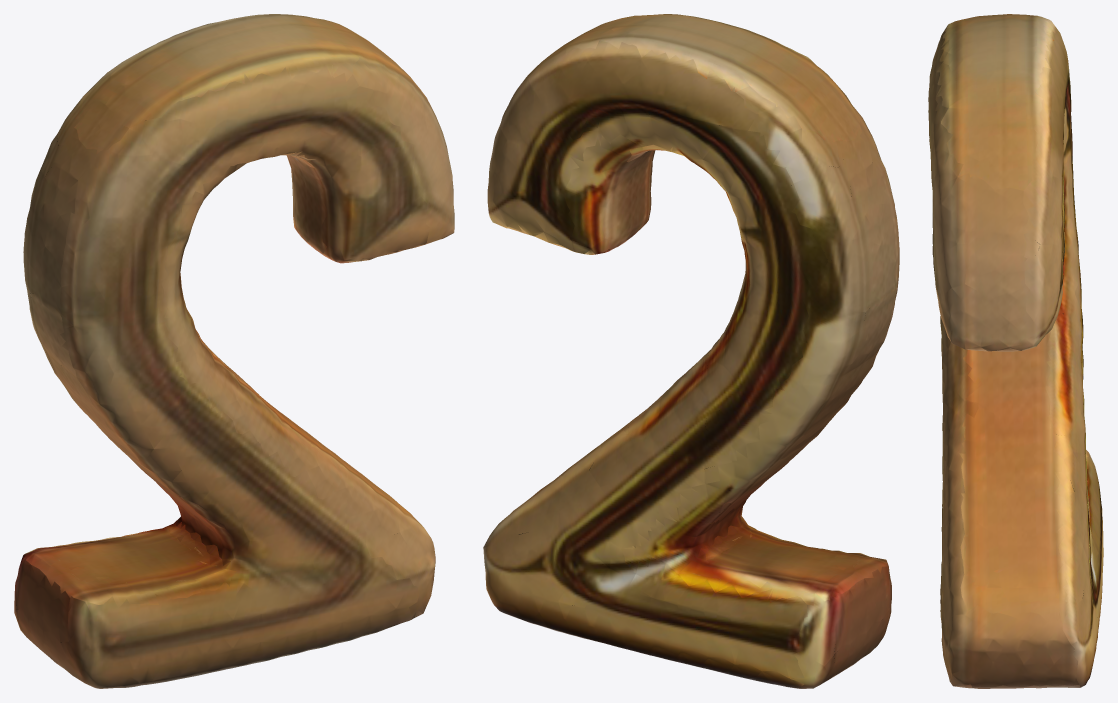
The model's file is iphone 12.glb.
3 renders of one model, left to right at view 1: azimuth 30°, elevation 25°; view 2: azimuth 150°, elevation 25°; view 3: azimuth 270°, elevation 25°, orthographic. The views are drawn at different scales.
Parts seen in each view (by area): view 1: world; view 2: world; view 3: world.
Part boxes in pixels (x1,y1,x2,y2): world: (14, 14, 454, 688); world: (483, 14, 899, 688); world: (928, 14, 1103, 688).
Size of the model in its own units: 0.6242 by 0.934 by 0.2537.
Materials: 1 (1 with a texture image).
